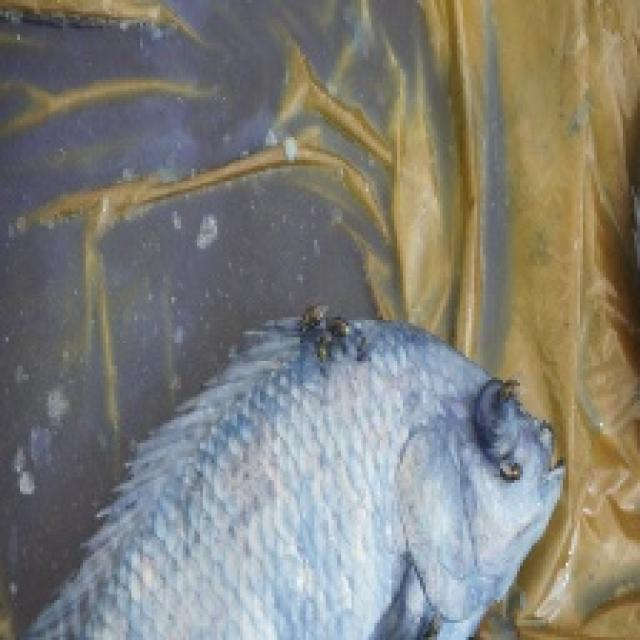Non-Fresh: (125, 310, 441, 638), (458, 365, 537, 478)
